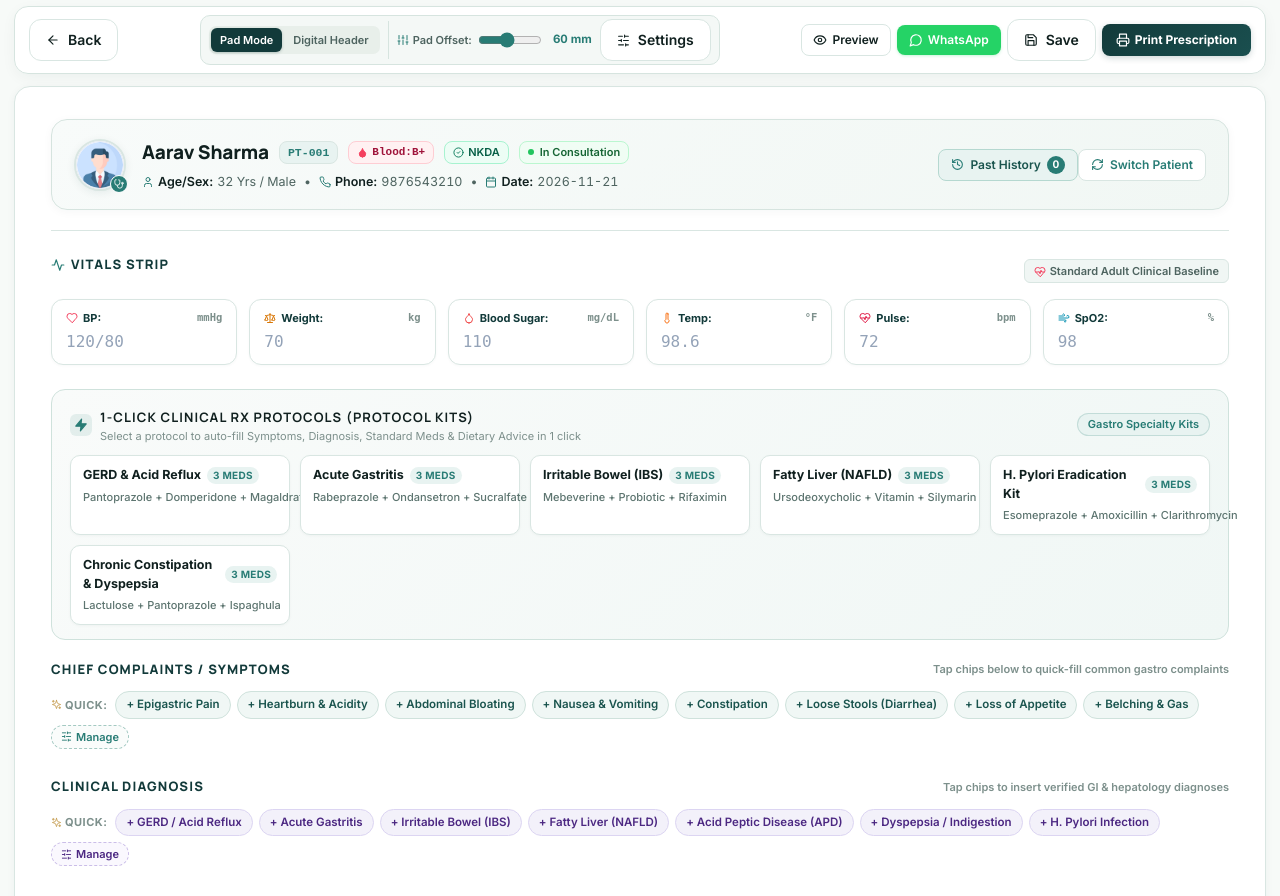
Scenario: Prescription Studio Clinical Quick Chips Management › resets category back to clinic defaults
Click the button titled "Manage Symptoms Quick Chips" below "Chief Complaints / Symptoms" at (90,737), box [51,724,129,749]
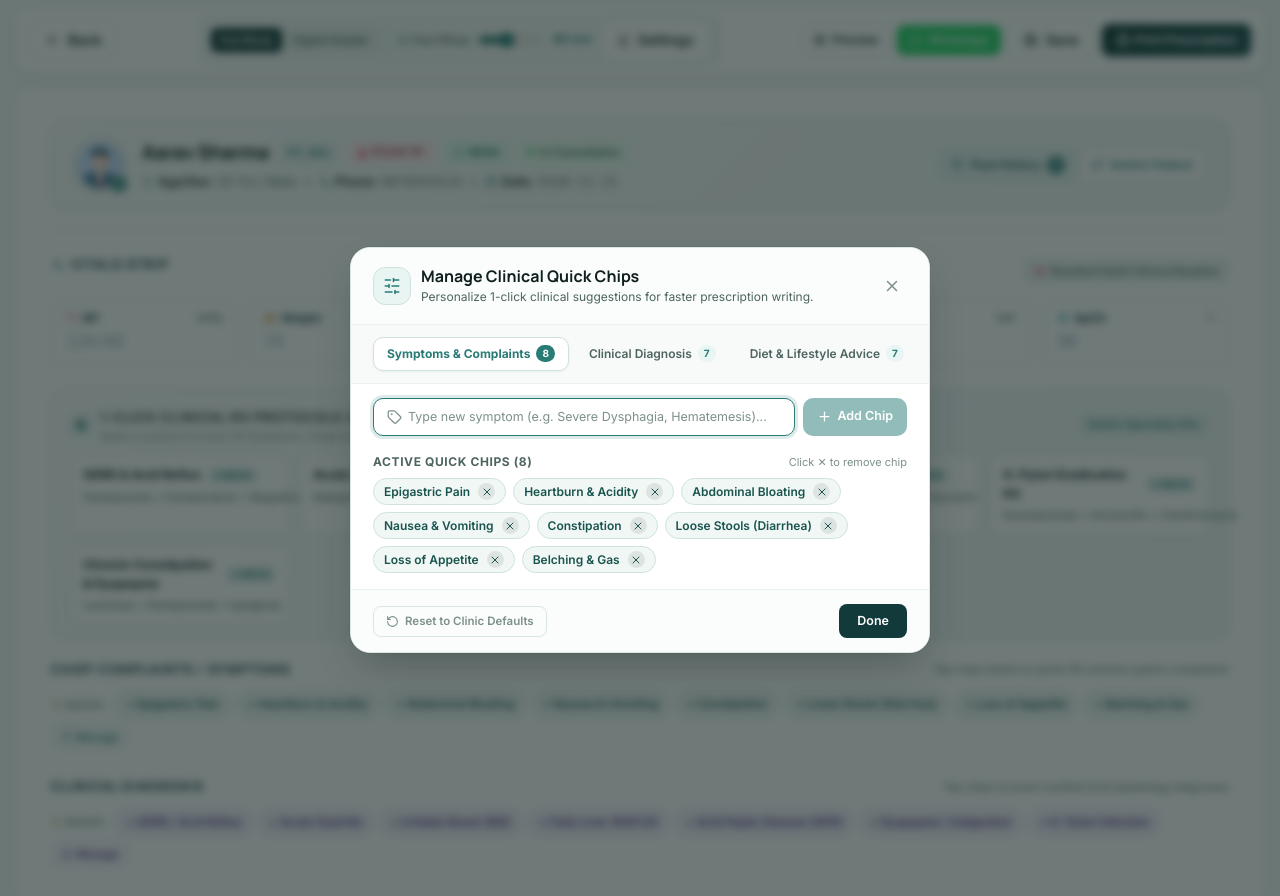
# Remove Belching & Gas via UI inside modal
Click the button titled "Remove \"Belching & Gas\"" at (636,560), box [628,551,645,568]
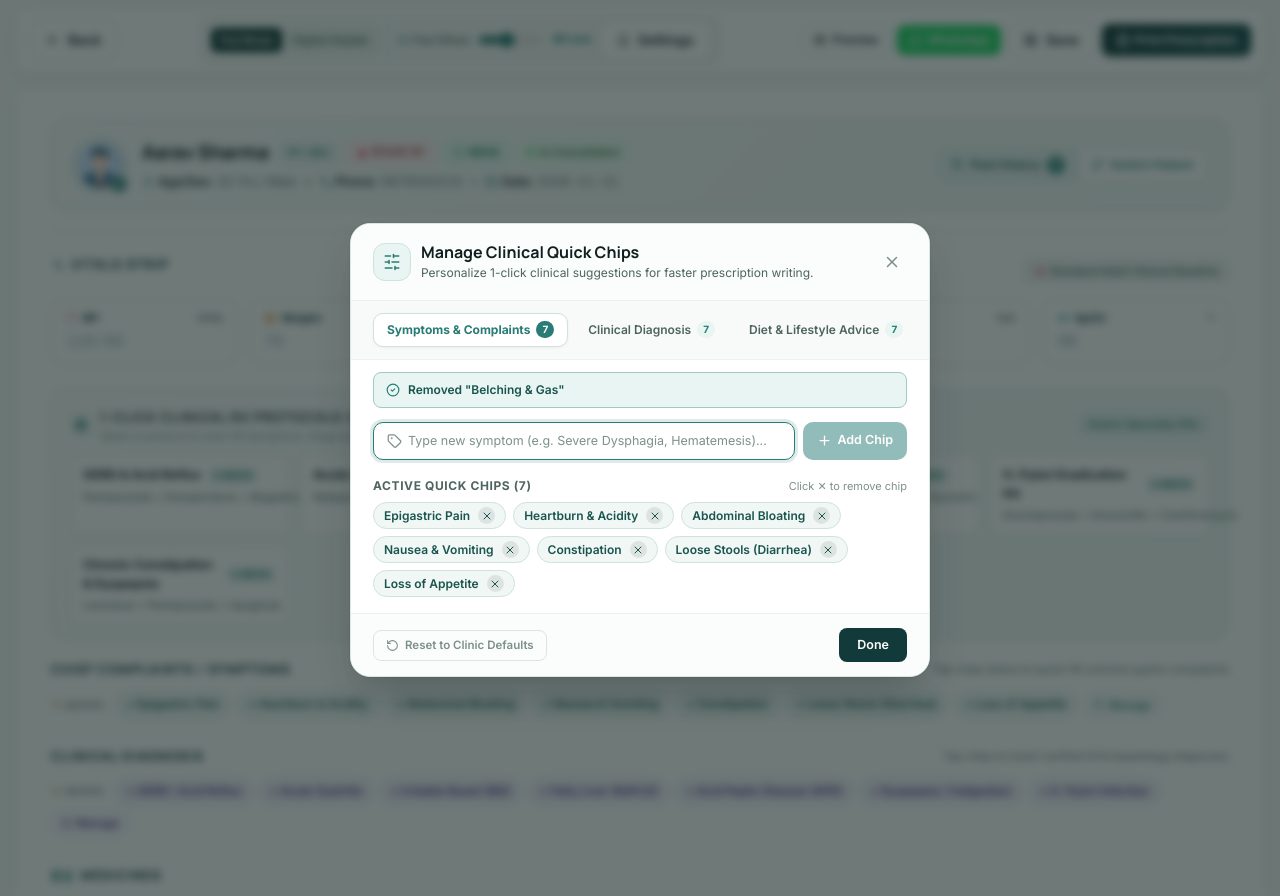
# Click Reset to Defaults
Click the button "Reset to Clinic Defaults" at (460,645), box [373,630,547,661]
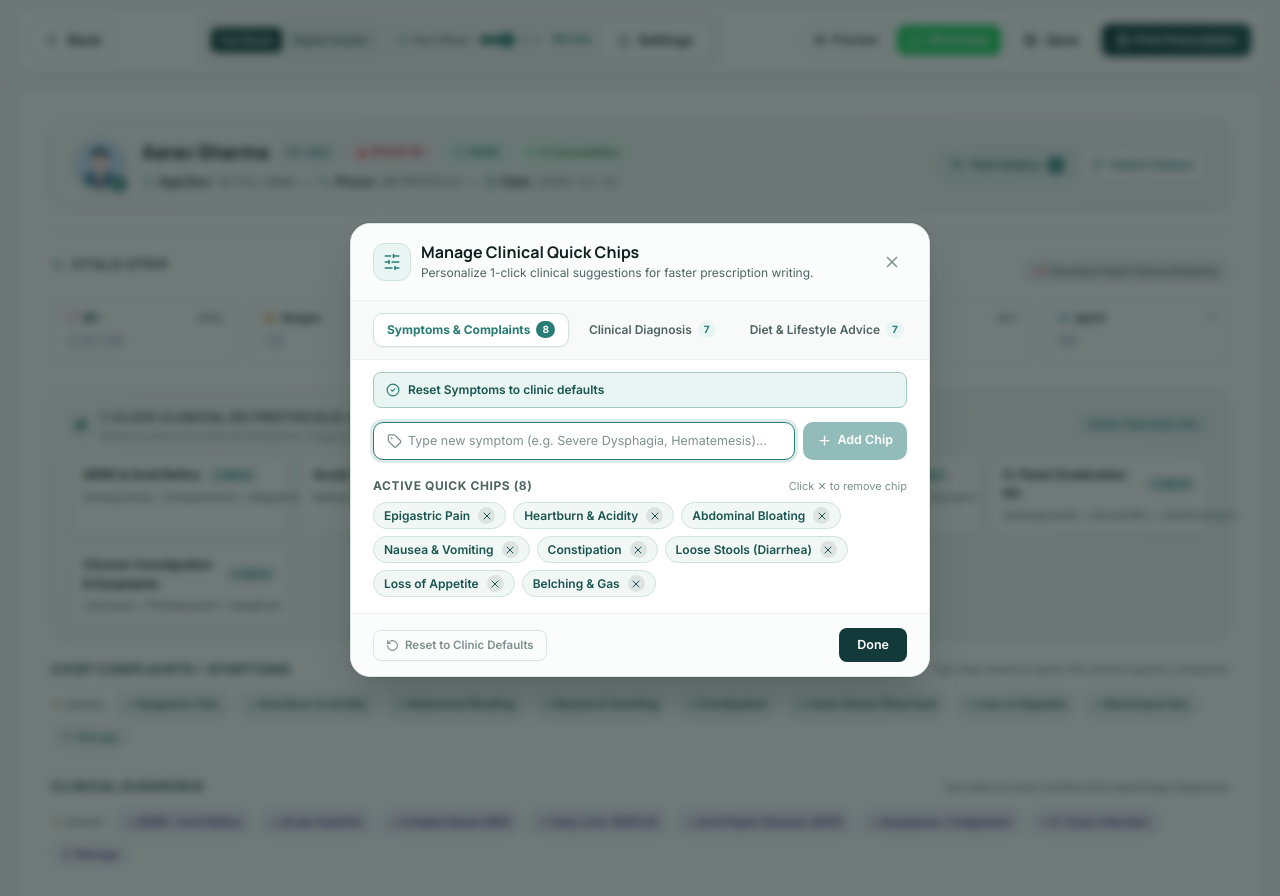
Expected: the button titled "Remove \"Belching & Gas\"" is shown, [628,575,645,592]
